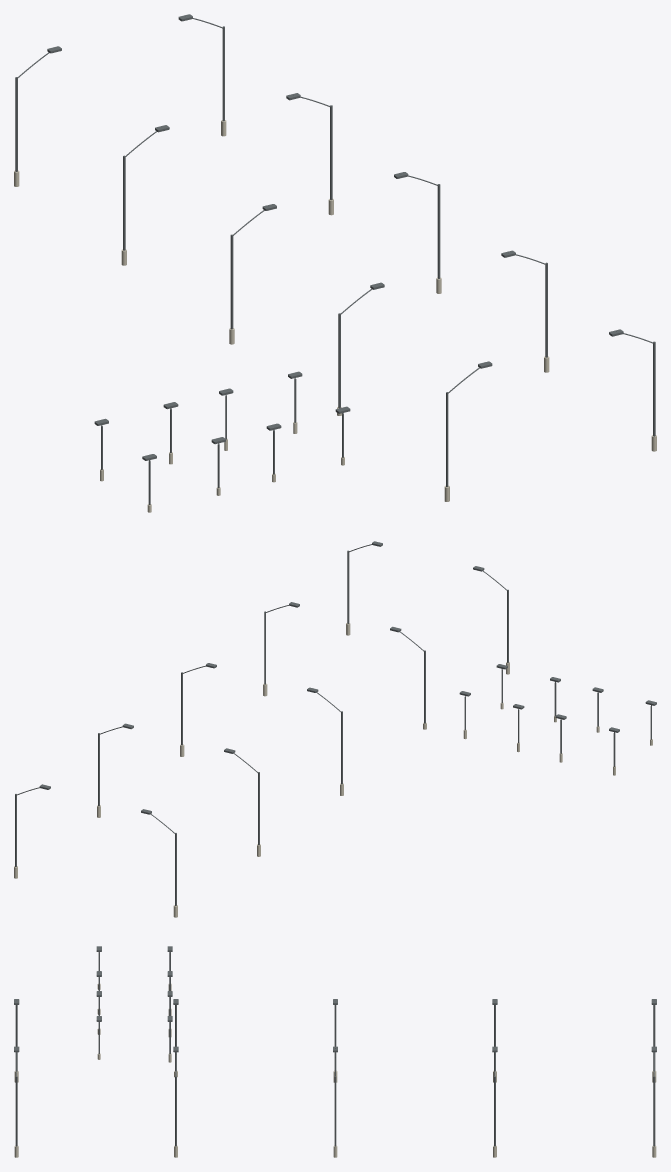
3 renders of one model, top to bottom at view 1: azimuth 30°, elevation 25°; view 2: azimuth 150°, elevation 25°; view 3: azimuth 270°, elevation 25°, orthographic. The views are drawn at different scales.
Visible parts, largest first — view 1: buildings_s_-4_-5_Dark_Metal, buildings_s_-4_-5_Warm_Limestone; view 2: buildings_s_-4_-5_Dark_Metal, buildings_s_-4_-5_Warm_Limestone; view 3: buildings_s_-4_-5_Dark_Metal, buildings_s_-4_-5_Warm_Limestone.
Part boxes in pixels (x1=…): buildings_s_-4_-5_Dark_Metal: x1=15, y1=14, x2=655, y2=504; buildings_s_-4_-5_Warm_Limestone: x1=14, y1=120, x2=656, y2=512; buildings_s_-4_-5_Dark_Metal: x1=15, y1=541, x2=656, y2=905; buildings_s_-4_-5_Warm_Limestone: x1=14, y1=623, x2=652, y2=917; buildings_s_-4_-5_Dark_Metal: x1=14, y1=946, x2=656, y2=1146; buildings_s_-4_-5_Warm_Limestone: x1=14, y1=983, x2=656, y2=1157.
Size of the model in its own units: 66.19 by 17.75 by 109.
